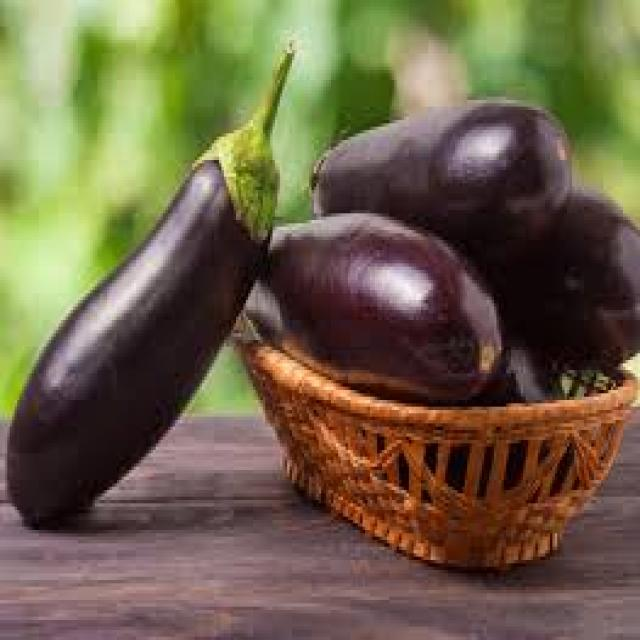eggplant: (18, 0, 299, 550), (250, 169, 522, 402), (308, 111, 338, 132)
